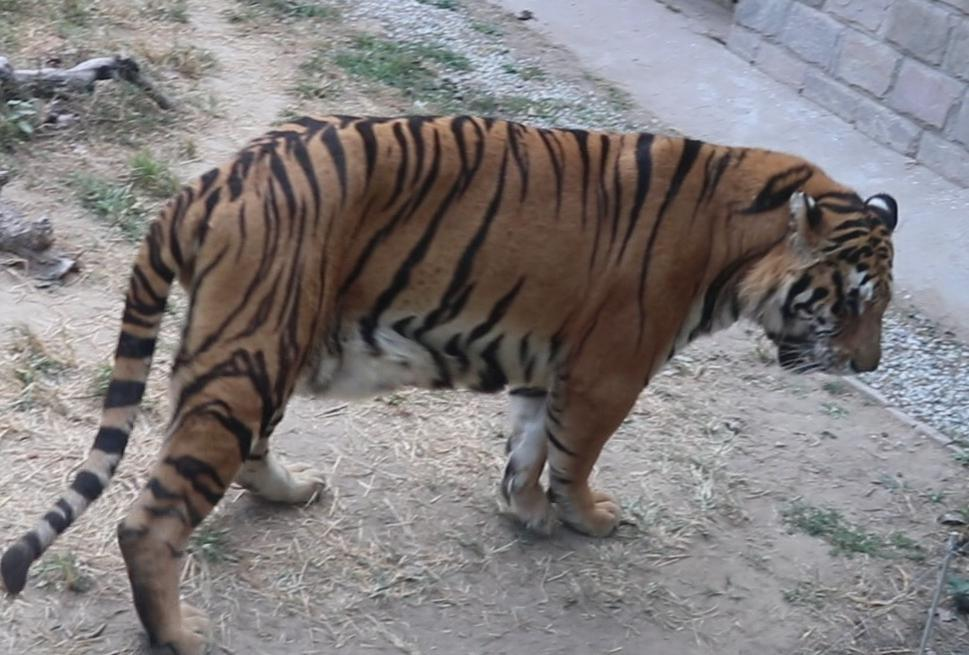tiger: (0, 115, 897, 654)
